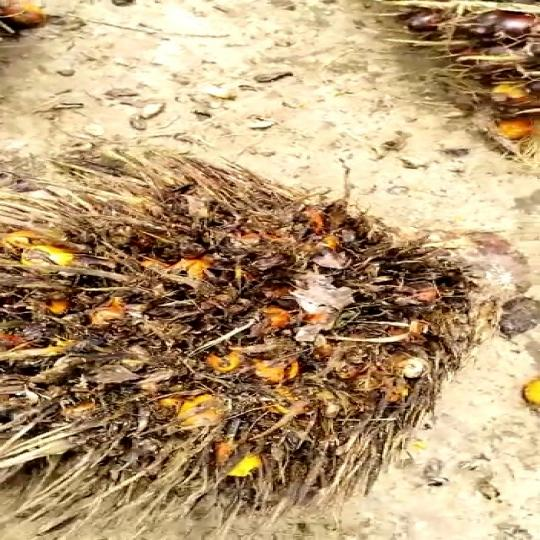terlalu masak: (10, 135, 480, 540)
